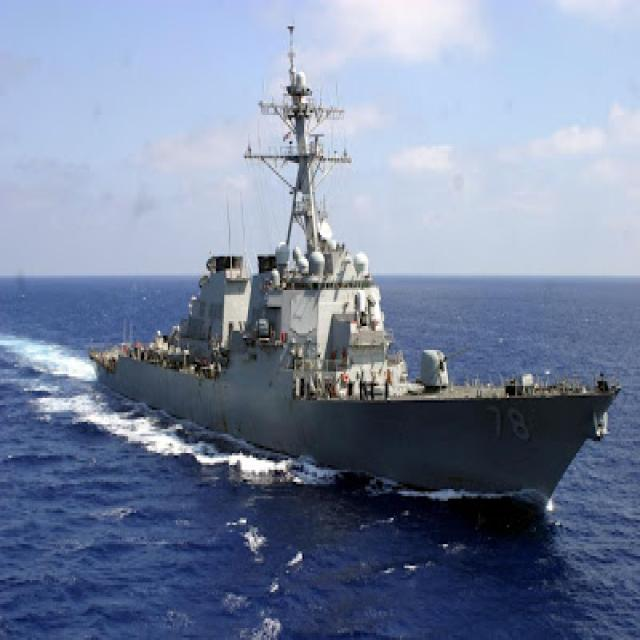navalvessels: (85, 54, 636, 522)
